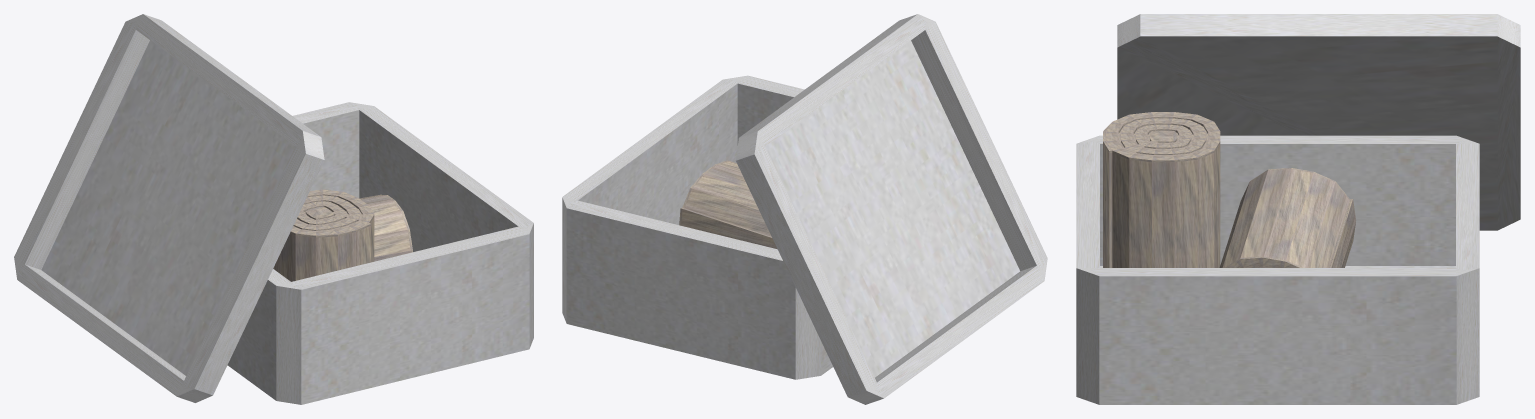
File: medical.fbx
3 renders of one model, left to right at view 1: azimuth 30°, elevation 25°; view 2: azimuth 150°, elevation 25°; view 3: azimuth 270°, elevation 25°, orthographic. The views are drawn at different scales.
Visible parts, largest first — view 1: bandage.002; view 2: bandage.002; view 3: bandage.002.
Part boxes in pixels (x1,y1,x2,y2): bandage.002: (14,14,533,404); bandage.002: (562,14,1047,404); bandage.002: (1076,14,1520,404).
Size of the model in its own units: 214 by 149 by 218.
